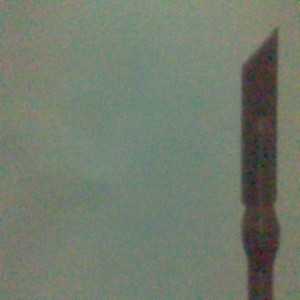cutter: (237, 27, 282, 300)
